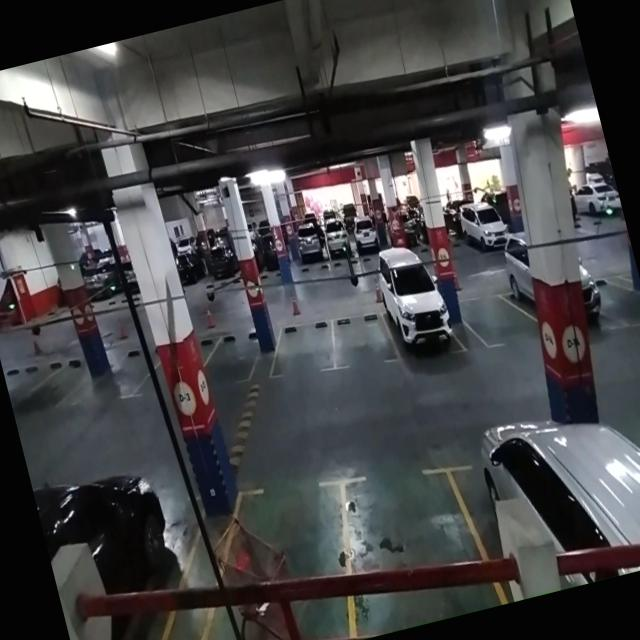car: (445, 387, 640, 608), (372, 252, 462, 370)
free: (326, 450, 506, 638), (187, 466, 378, 640), (457, 284, 538, 354), (198, 326, 276, 394), (263, 318, 340, 386), (326, 308, 398, 376), (591, 270, 640, 337)
